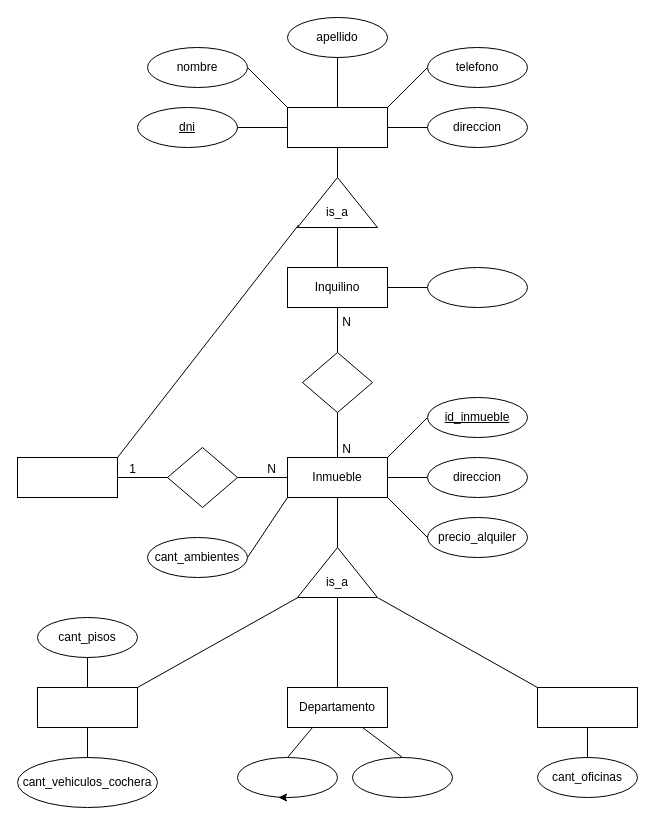
The diagram is 655 pixels wide and 825 high, and some of its shapes have lost their labels. Here are the shapes that lost their labels. From the top down, the centre of each, then its label:
At (337,127): "Persona".
At (477,287): "ingreso_mensual".
At (337,382): "alquila".
At (67,477): "Propietario".
At (202,477): "dueño".
At (87,707): "Casa".
At (587,707): "Local".
At (287,777): "piso".
At (402,777): "nro_depto".
